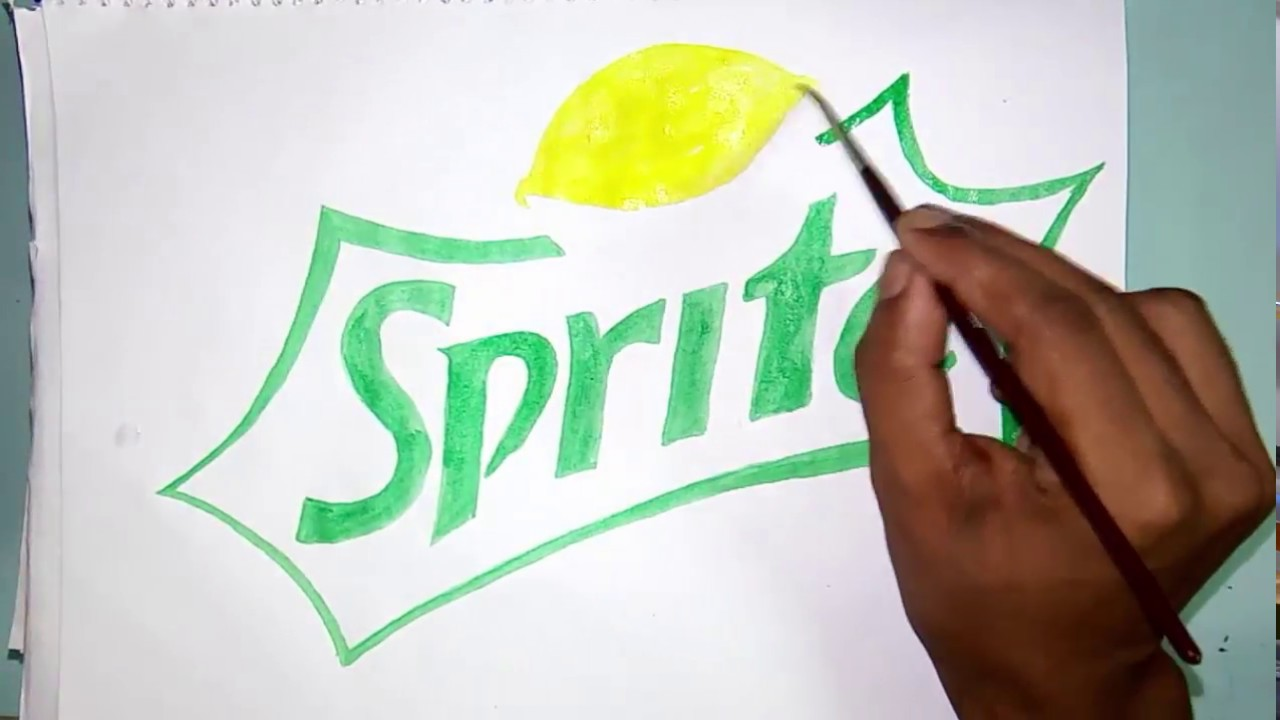sprite: (290, 191, 890, 561), (290, 191, 890, 540)
